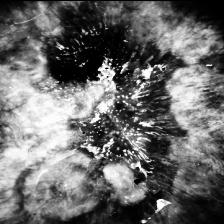Potentially Malignant Skin Tumors: (38, 0, 180, 210)
